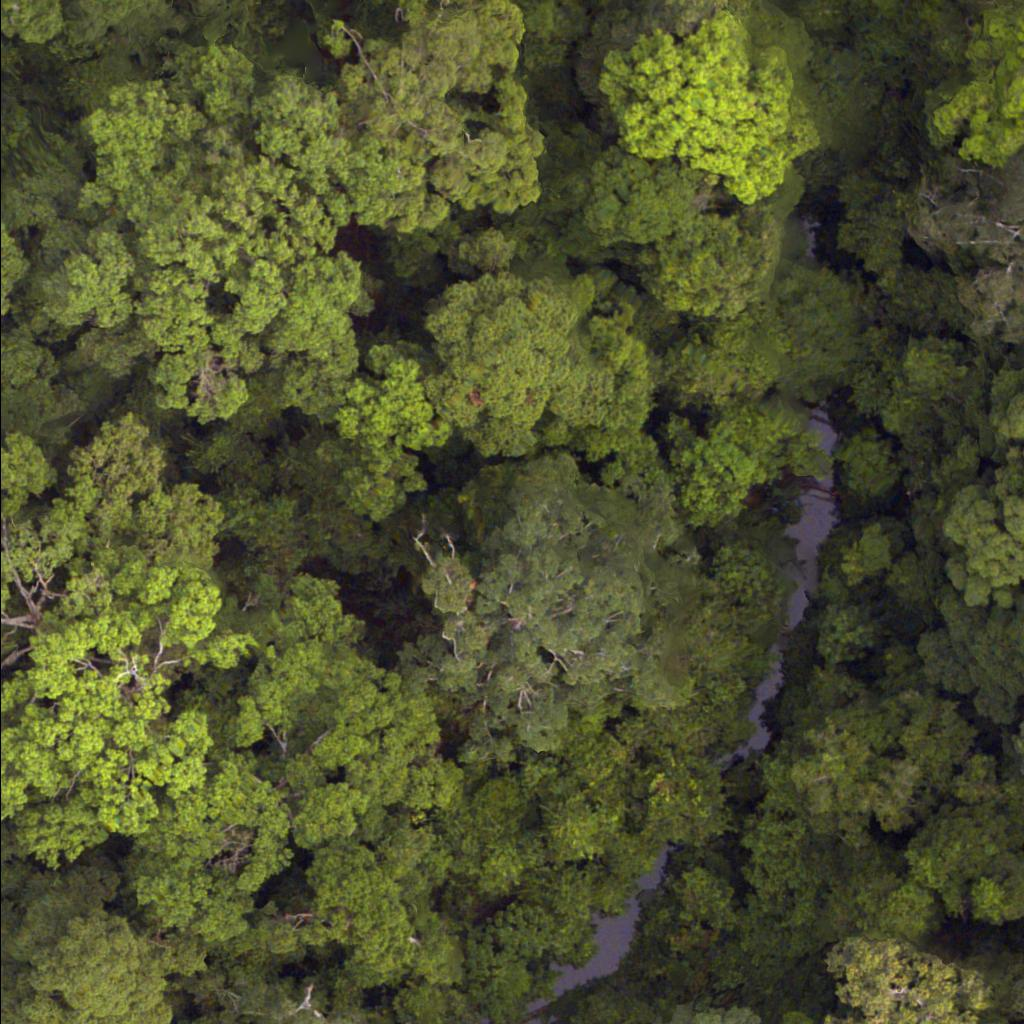crown: (395, 449, 704, 792), (601, 0, 866, 219), (440, 270, 677, 462), (927, 170, 1023, 336), (950, 391, 1023, 602), (931, 0, 1023, 167), (669, 410, 784, 527), (572, 145, 698, 247), (635, 206, 752, 308), (0, 216, 28, 317), (692, 1015, 753, 1023)
